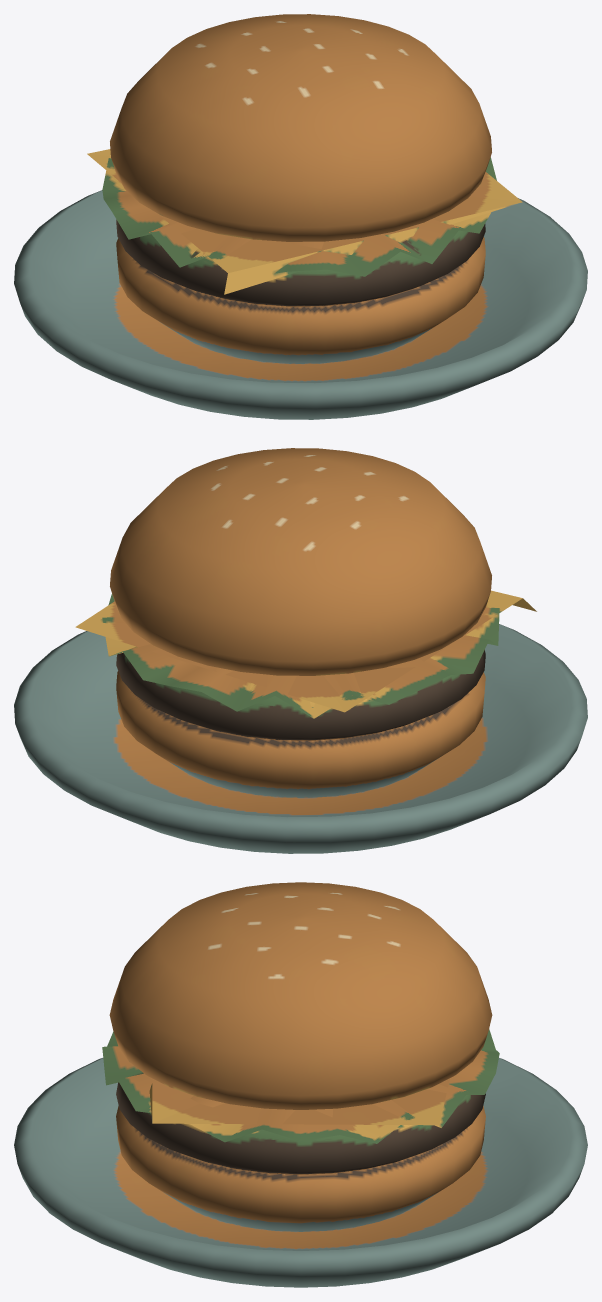
The model's file is prp_market_burger_v01.glb.
3 views of the same model, one above another, from view 1: azimuth 30°, elevation 25°; view 2: azimuth 150°, elevation 25°; view 3: azimuth 270°, elevation 25° (orthographic).
Visible parts, largest first — view 1: lod0__prp_market_burger_v01; view 2: lod0__prp_market_burger_v01; view 3: lod0__prp_market_burger_v01.
Boxes of the visible parts, x1=… form: lod0__prp_market_burger_v01: x1=14, y1=14, x2=587, y2=419; lod0__prp_market_burger_v01: x1=14, y1=448, x2=587, y2=853; lod0__prp_market_burger_v01: x1=14, y1=882, x2=587, y2=1287.
Size of the model in its own units: 0.54 by 0.296 by 0.54.
1 material, 1 textured.
